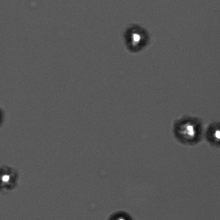Living Cell: (118, 18, 156, 57), (169, 109, 207, 148), (1, 160, 24, 195), (210, 120, 220, 147)
